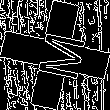M_W: (26, 27, 84, 83)
